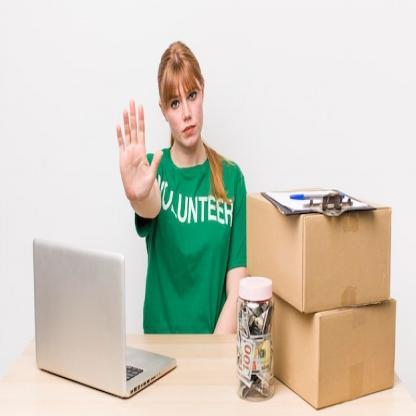stop: (114, 99, 163, 200)
